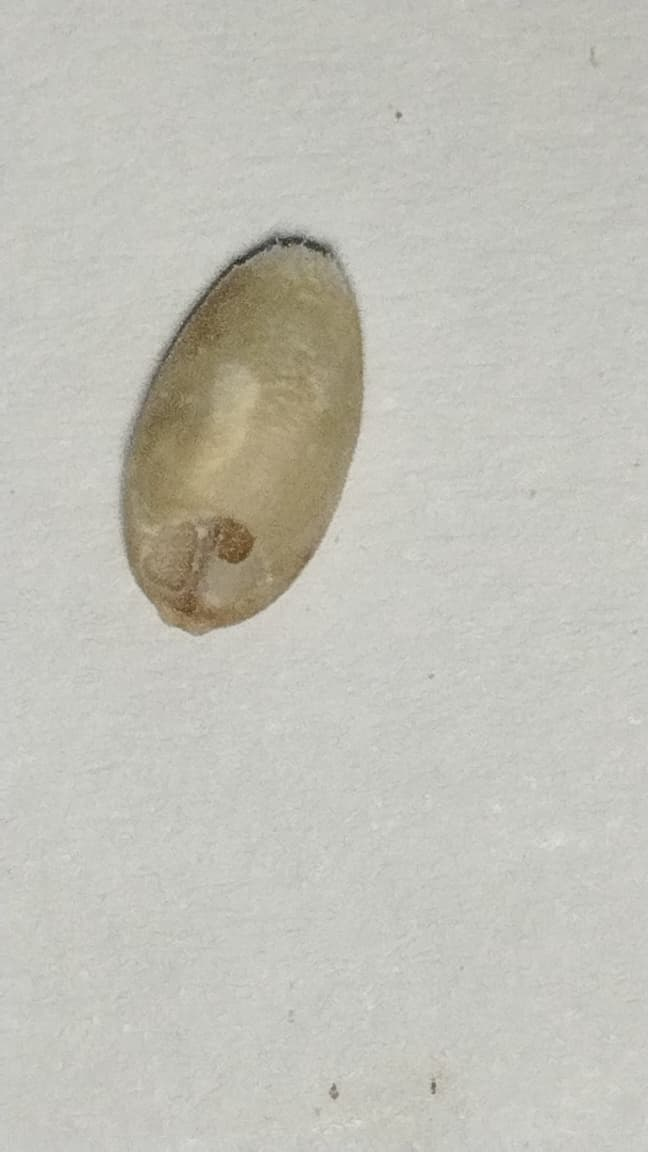damage: (126, 242, 361, 632)
insectdamage: (121, 483, 282, 640)
